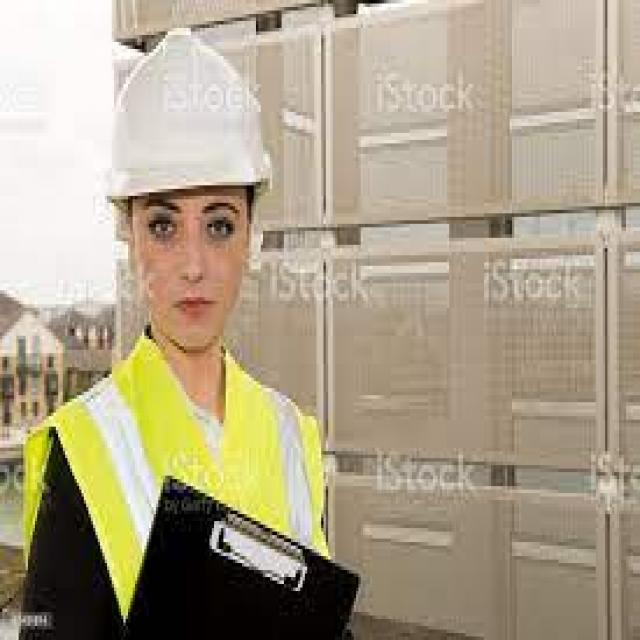Reflective-Jacket: (19, 339, 346, 633)
Safety-Helmet: (98, 28, 284, 213)
